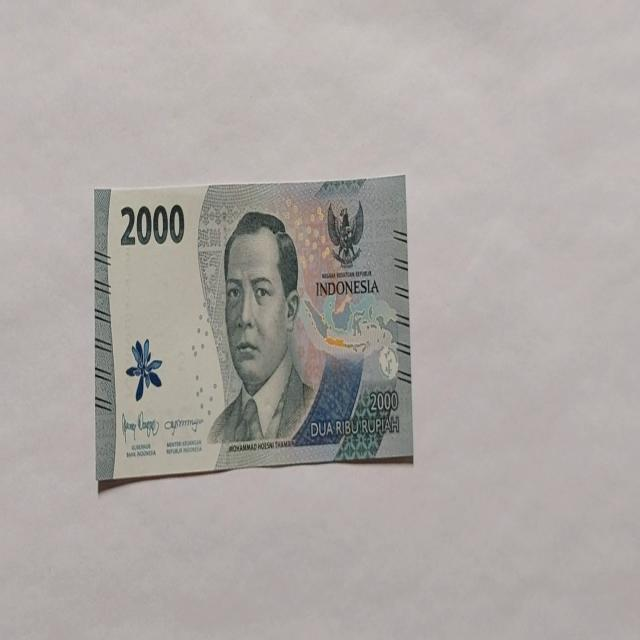dua ribu rupiah: (94, 174, 413, 488), (206, 210, 316, 448)
